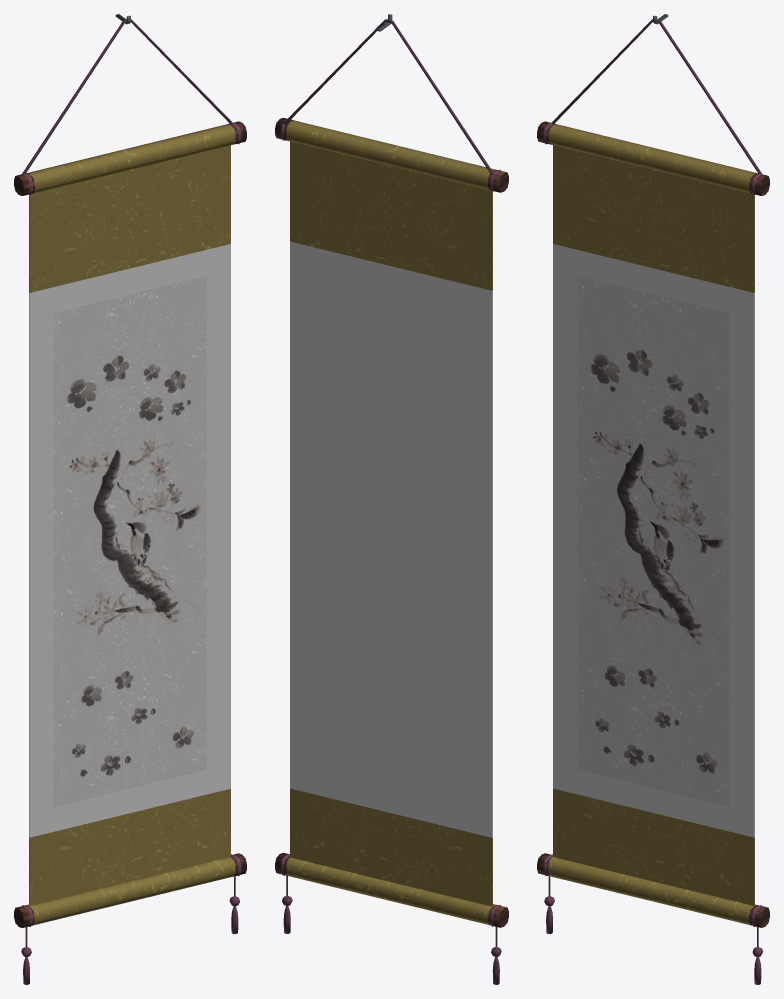
File: jov_kakejiku01b.fbx
3 renders of one model, left to right at view 1: azimuth 30°, elevation 25°; view 2: azimuth 150°, elevation 25°; view 3: azimuth 330°, elevation 25°, orthographic.
Parts seen in each view (by area): view 1: jov_kakajiku01b; view 2: jov_kakajiku01b; view 3: jov_kakajiku01b.
Boxes of the visible parts, x1=… form: jov_kakajiku01b: x1=14, y1=14, x2=246, y2=984; jov_kakajiku01b: x1=275, y1=14, x2=508, y2=984; jov_kakajiku01b: x1=537, y1=14, x2=769, y2=984.
Bounding box in the file's own units: 56.73 × 228 × 8.05.
